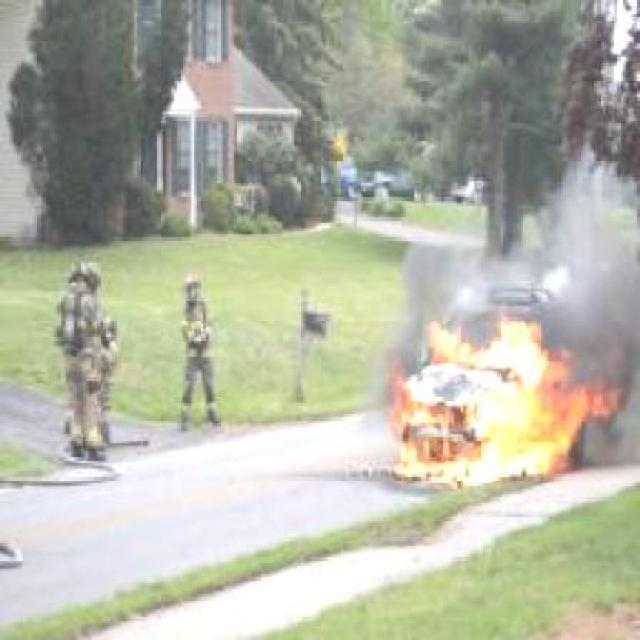Fire: (384, 314, 634, 491)
Smoke: (403, 134, 640, 315)
